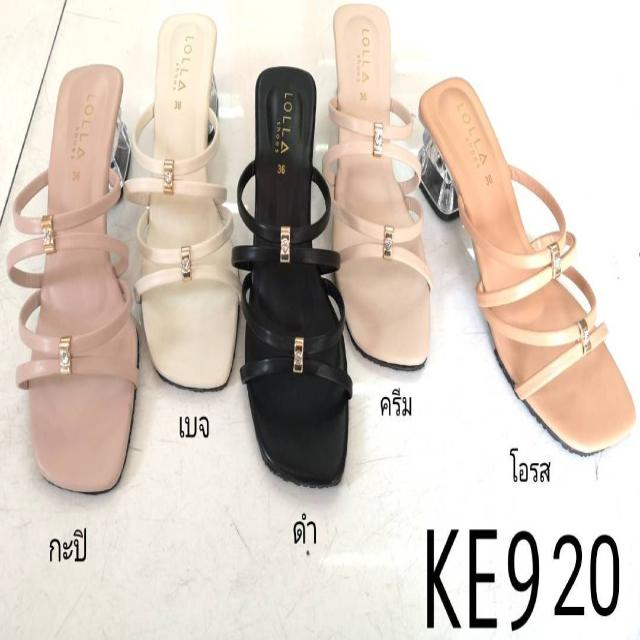bej: (149, 15, 237, 393)
cream: (326, 0, 430, 369)
kapi: (31, 65, 140, 490)
orot: (422, 67, 637, 458)
pink: (251, 62, 348, 488)
